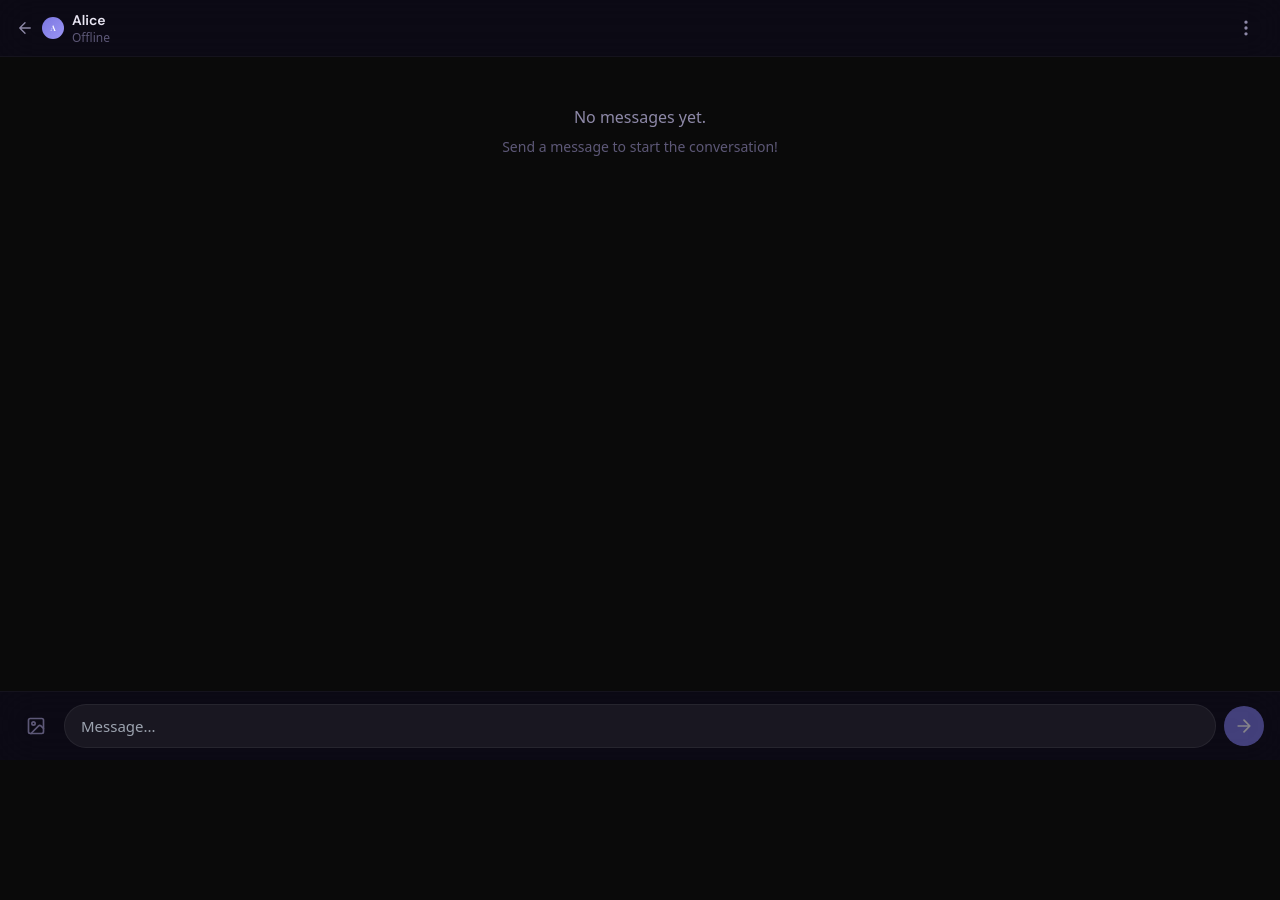
BUG-02: Block uses custom modal, not window.confirm() › MessagesTab — Block item in conversation three-dot menu › opens a dialog (role=alertdialog) when Block User is clicked
This screenshot has width=1280, height=900.
Click the button named "conversation options" at (1246, 28), box [1228, 10, 1264, 46]
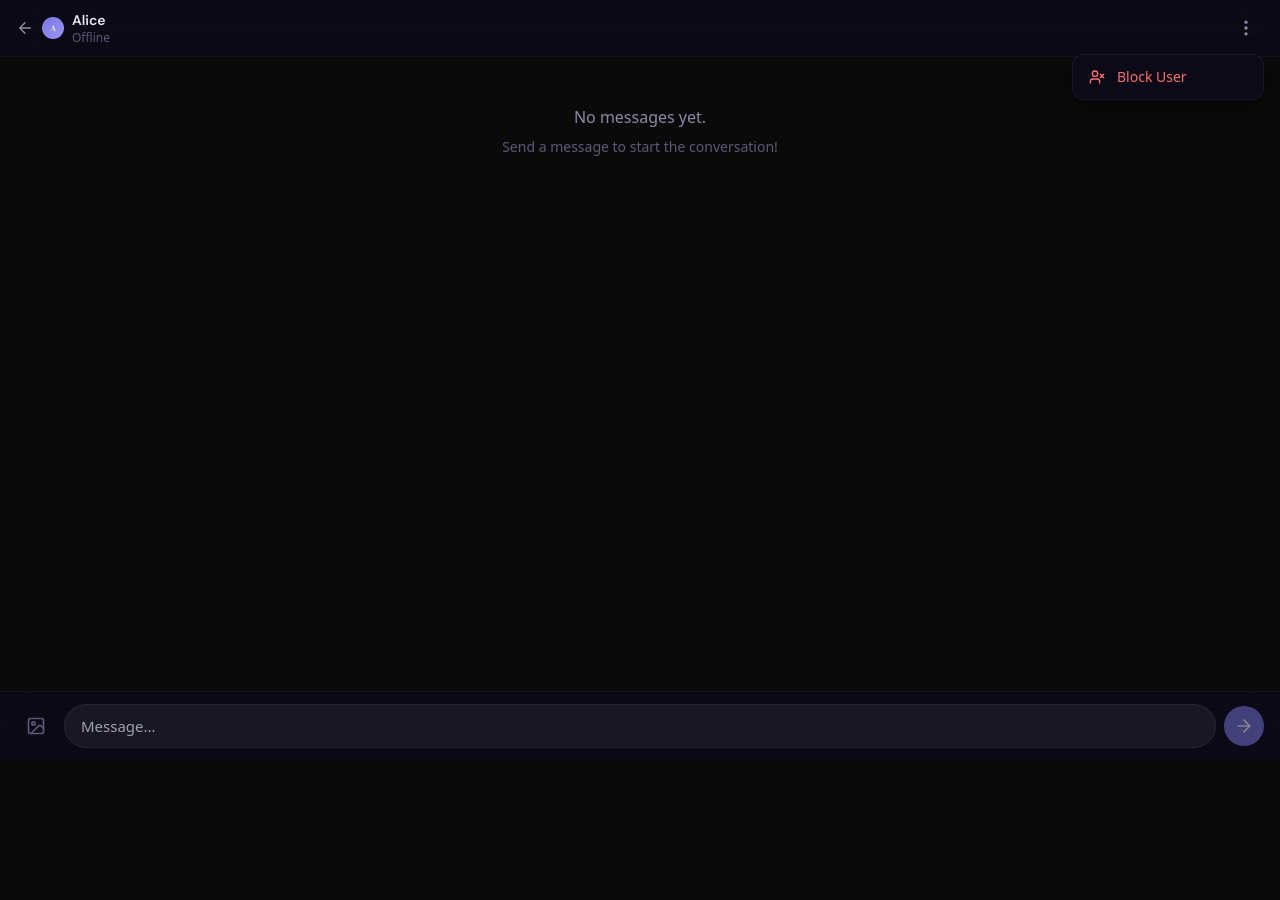
Click the button "Block User" at (1168, 77), box [1073, 55, 1263, 99]
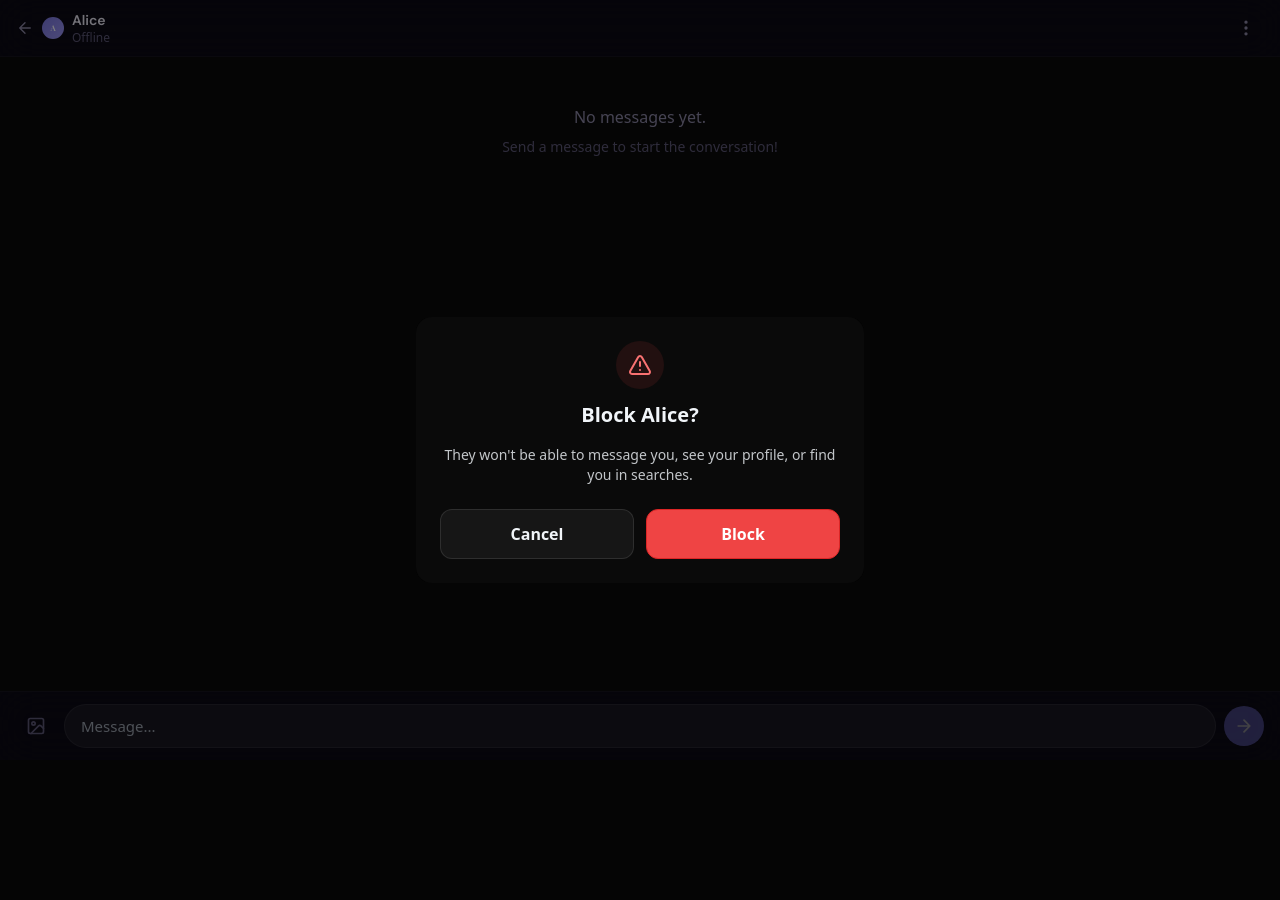
Now the dialog is shown, box [416, 317, 864, 583]
